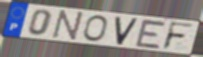0: (27, 8, 54, 38)
E: (133, 18, 168, 51)
F: (161, 21, 196, 52)
N: (50, 9, 86, 43)
O: (82, 14, 109, 43)
V: (114, 16, 140, 47)
